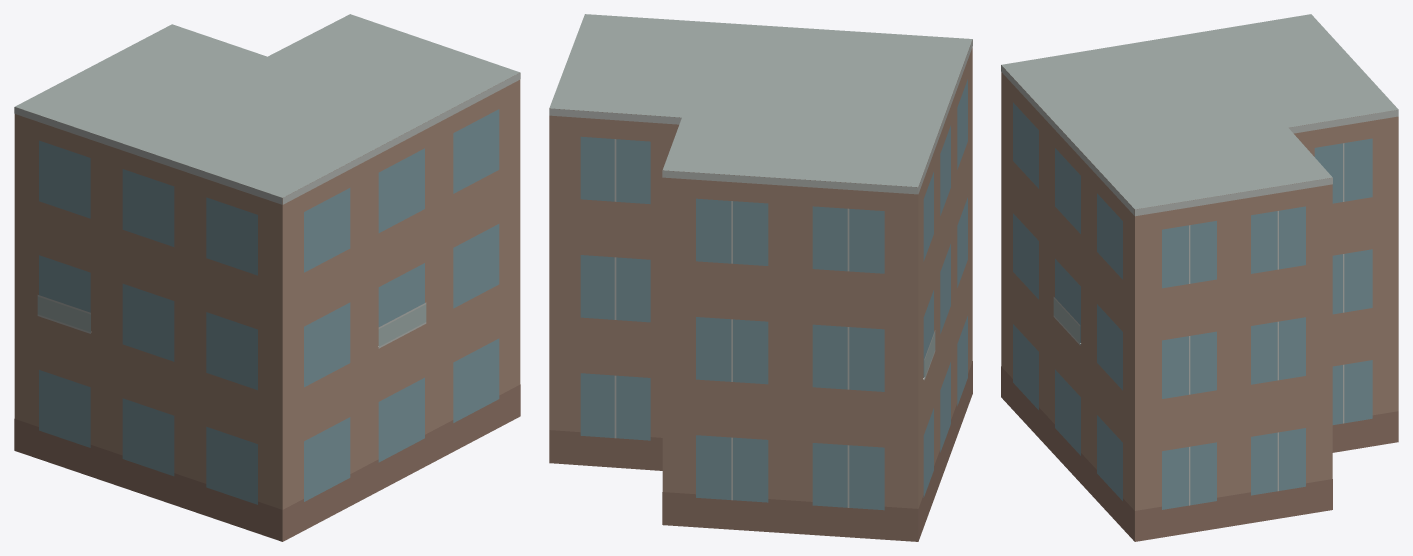
The model's file is survey-upis-32470685.glb.
3 renders of one model, left to right at view 1: azimuth 30°, elevation 25°; view 2: azimuth 150°, elevation 25°; view 3: azimuth 270°, elevation 25°, orthographic. The views are drawn at different scales.
Parts seen in each view (by area): view 1: survey-upis-32470685.tmp; view 2: survey-upis-32470685.tmp; view 3: survey-upis-32470685.tmp.
Boxes of the visible parts, left/top/right/bottom form: survey-upis-32470685.tmp: left=14, top=14, right=520, bottom=541; survey-upis-32470685.tmp: left=549, top=14, right=972, bottom=541; survey-upis-32470685.tmp: left=1001, top=14, right=1398, bottom=541.
Size of the model in its own units: 15.07 by 11.94 by 12.95.
